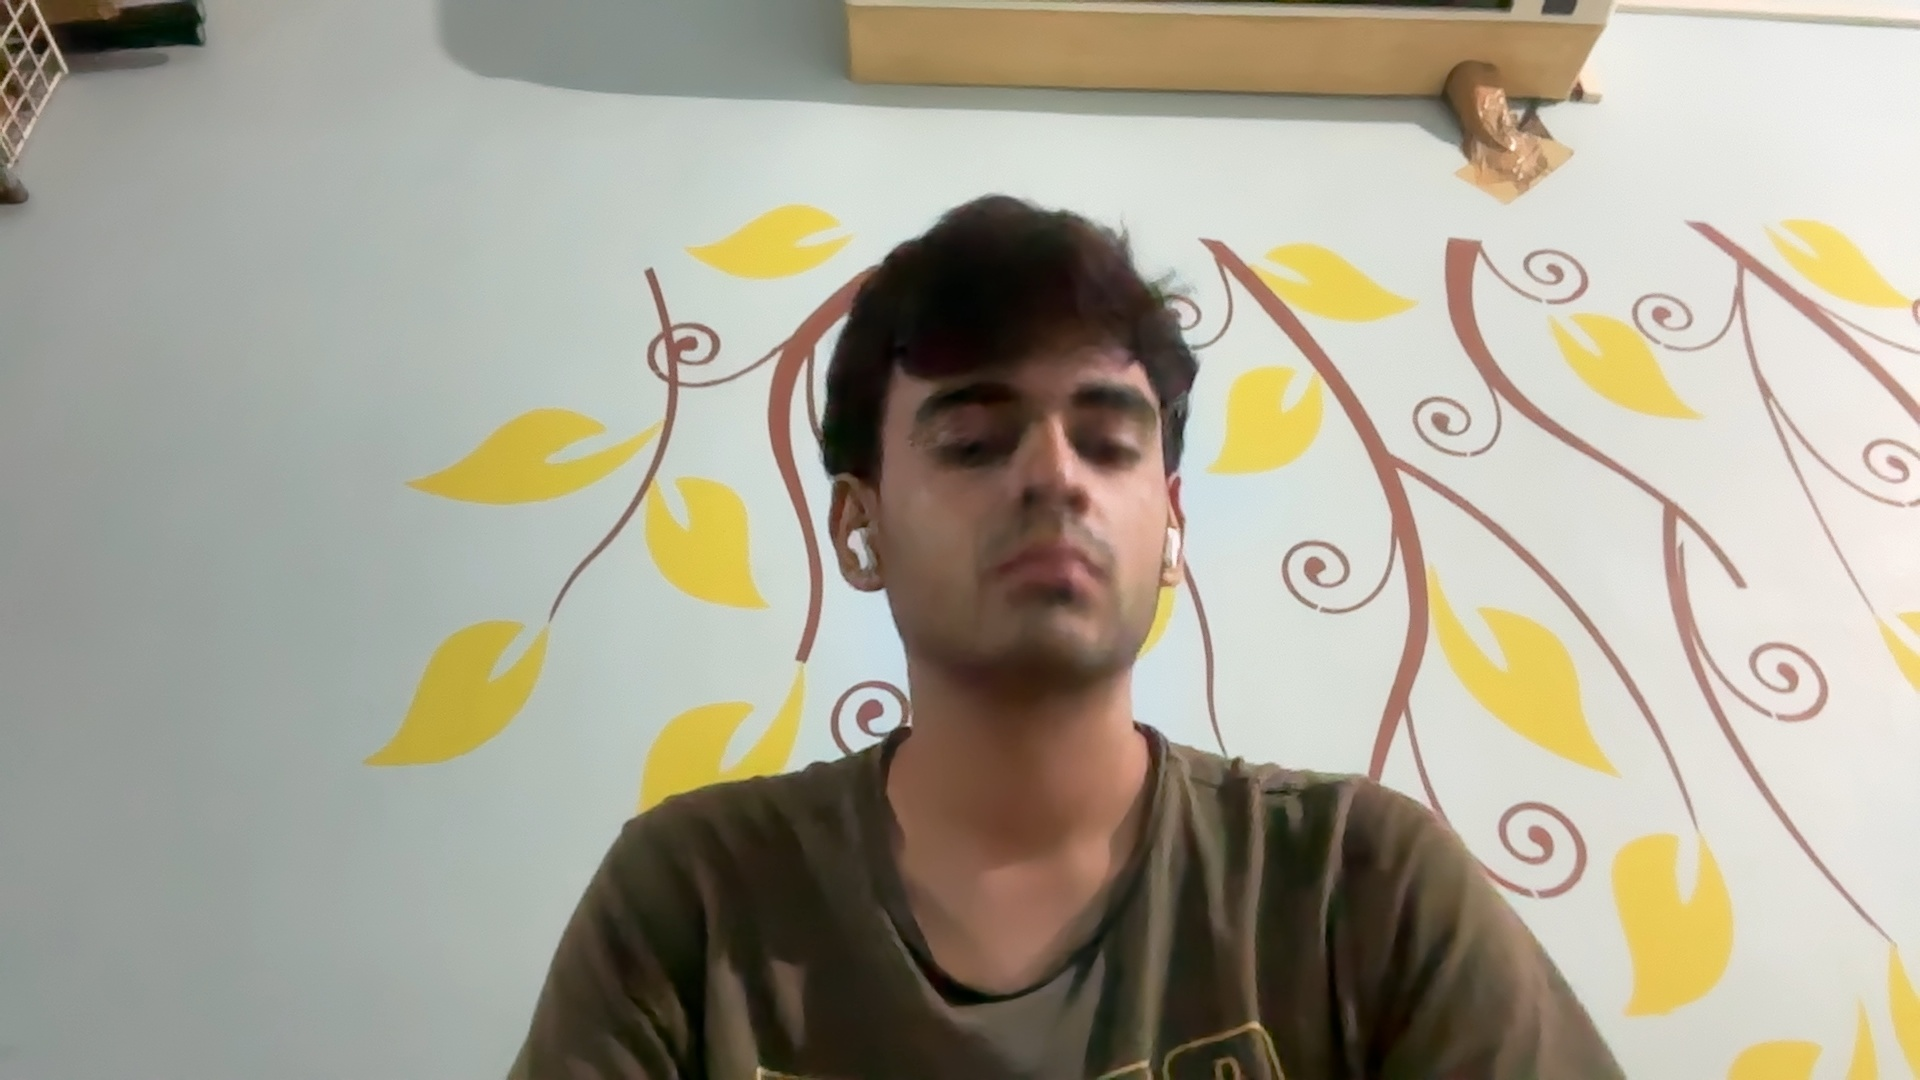No Mask: (892, 472, 1167, 702)
